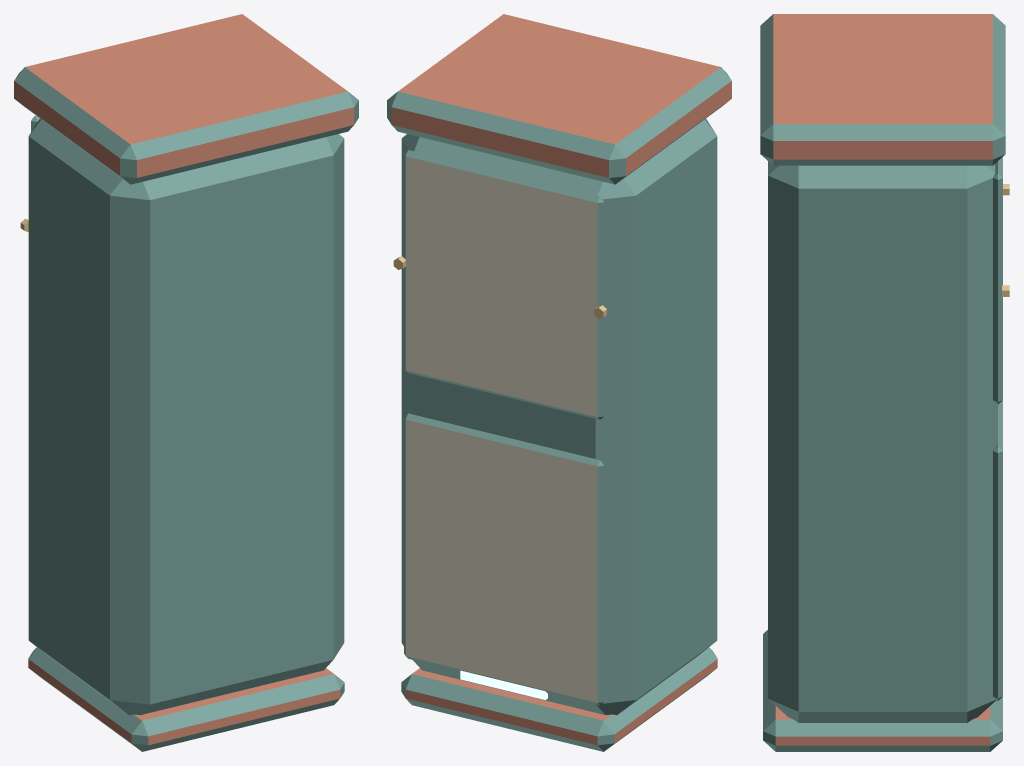
The picture shows the model from 3 angles, left to right: view 1: azimuth 30°, elevation 25°; view 2: azimuth 150°, elevation 25°; view 3: azimuth 270°, elevation 25°; orthographic projection. The views are drawn at different scales.
Visible parts, largest first — view 1: TH_Segment; view 2: TH_Segment; view 3: TH_Segment.
Part boxes in pixels (left/top/right/bottom): TH_Segment: left=14, top=14, right=358, bottom=751; TH_Segment: left=387, top=14, right=731, bottom=751; TH_Segment: left=760, top=14, right=1009, bottom=751.
Bounding box in the file's own units: 1.12 × 2.74 × 0.975.
